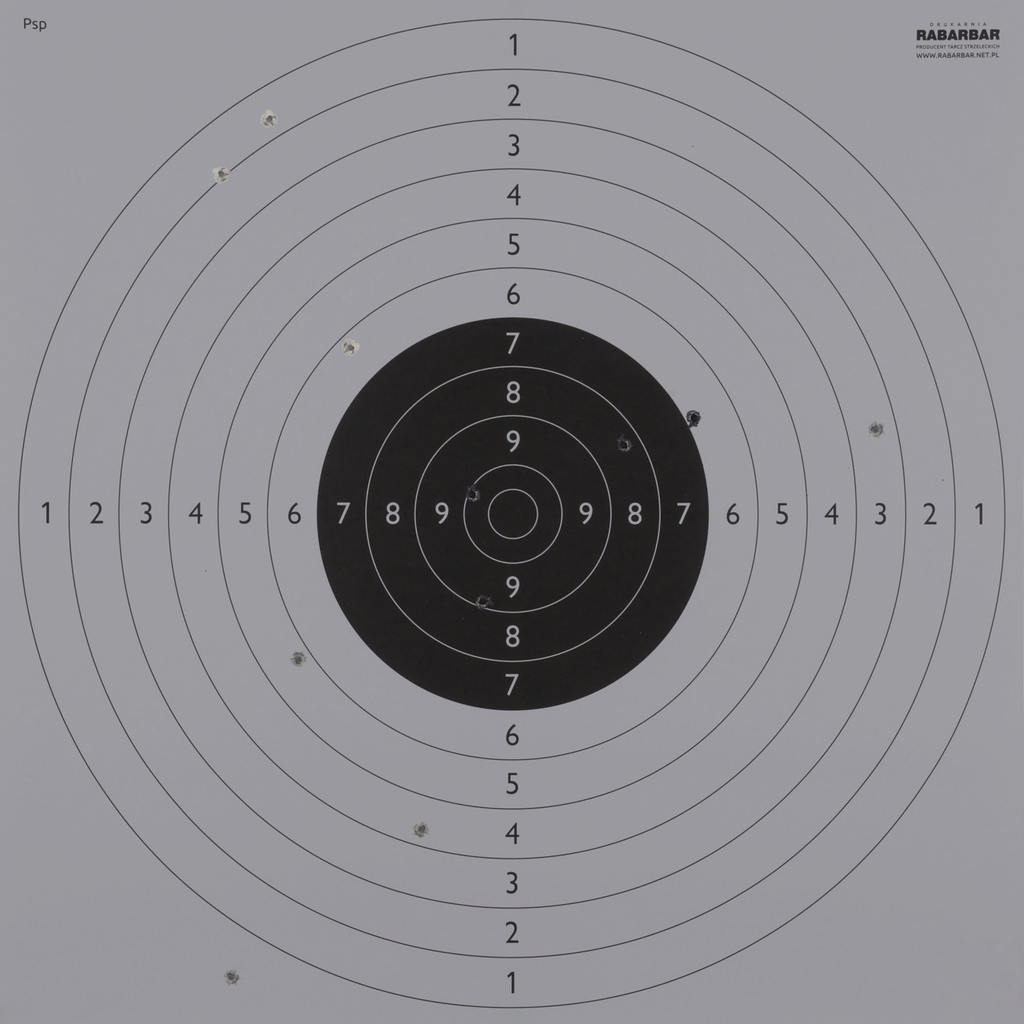0 punktow: (222, 968, 240, 986)
1 punkt: (260, 110, 279, 128)
10 punktow: (463, 485, 482, 503)
2 punkty: (212, 165, 231, 183)
3 punkty: (866, 420, 885, 439)
4 punkty: (412, 820, 431, 839)
5 punktow: (289, 651, 308, 669)
6 punktow: (341, 339, 360, 357)
7 punktow: (684, 409, 703, 427)
8 punktow: (615, 436, 633, 454)
9 punktow: (474, 593, 492, 611)
